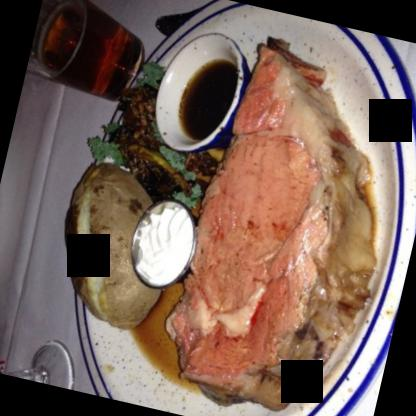beef: (154, 31, 415, 415)
